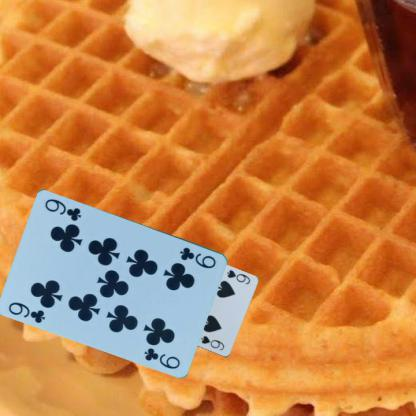6s: (224, 267, 251, 285)
9c: (177, 244, 218, 270), (6, 299, 47, 325)
